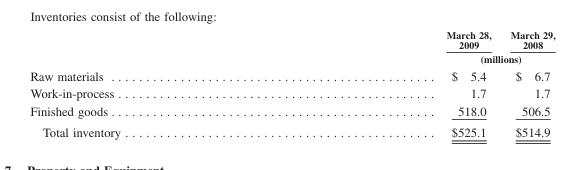table: (29, 28, 554, 139)
table column: (29, 28, 283, 139), (283, 28, 500, 139), (500, 28, 554, 139)
table column header: (29, 28, 554, 66)
table row: (29, 28, 554, 51), (29, 101, 554, 121), (29, 66, 554, 84), (29, 121, 554, 139), (29, 84, 554, 101), (29, 51, 554, 66)
table spanning cell: (283, 51, 554, 66)
